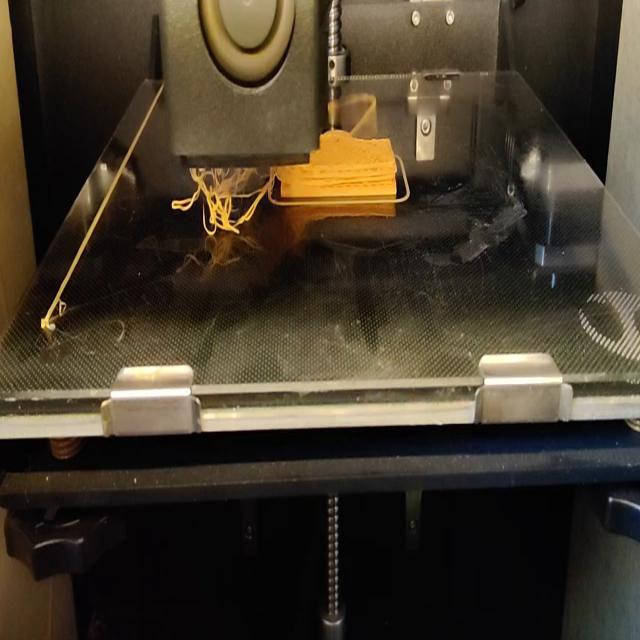spaghetti: (170, 167, 262, 237)
